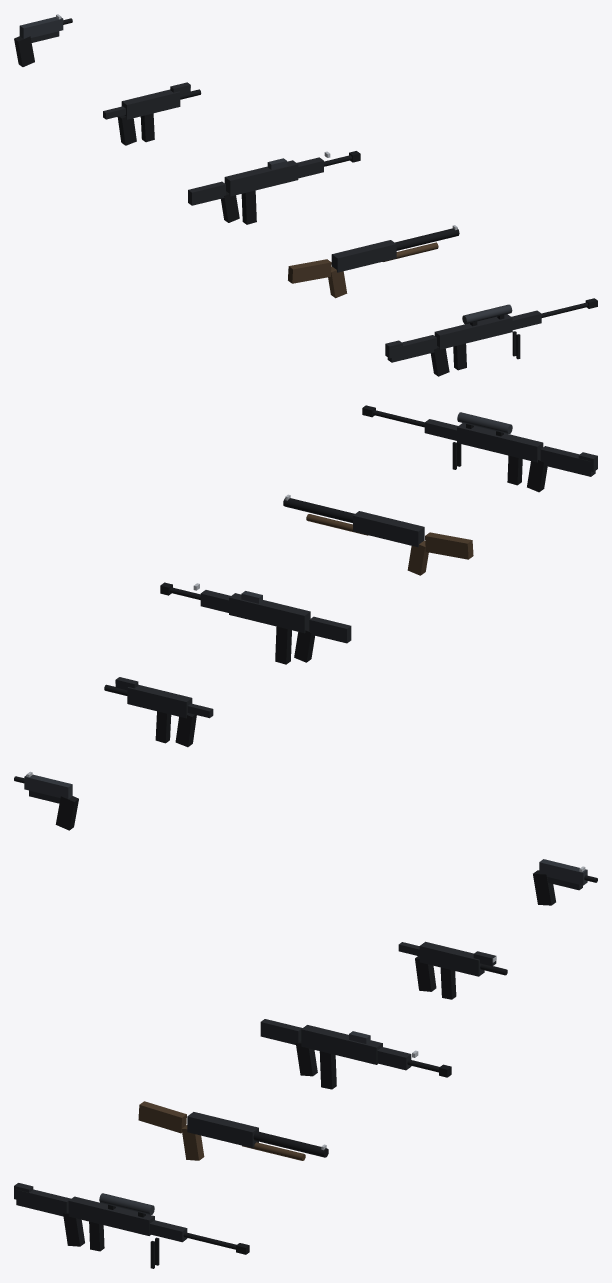
Rendered from weapons_arsenal.glb.
3 renders of one model, top to bottom at view 1: azimuth 30°, elevation 25°; view 2: azimuth 150°, elevation 25°; view 3: azimuth 330°, elevation 25°, orthographic. The views are drawn at different scales.
Parts seen in each view (by area): view 1: SNIPER, RIFLE, SHOTGUN, SMG, PISTOL; view 2: SNIPER, RIFLE, SHOTGUN, SMG, PISTOL; view 3: SNIPER, RIFLE, SHOTGUN, SMG, PISTOL.
Boxes of the visible parts, x1,y1,x2,y2 form: SNIPER: (385,298,597,376); RIFLE: (188,151,360,224); SHOTGUN: (288,225,459,298); SMG: (103,82,201,145); PISTOL: (14,14,72,66); SNIPER: (362,405,597,492); RIFLE: (160,582,351,664); SHOTGUN: (283,494,473,575); SMG: (104,677,213,747); PISTOL: (14,771,78,830); SNIPER: (14,1183,249,1268); RIFLE: (260,1019,451,1089); SHOTGUN: (138,1101,328,1160); SMG: (398,941,507,999); PISTOL: (533,859,597,905).
Size of the model in its own units: 0.92 by 0.2478 by 3.25.
